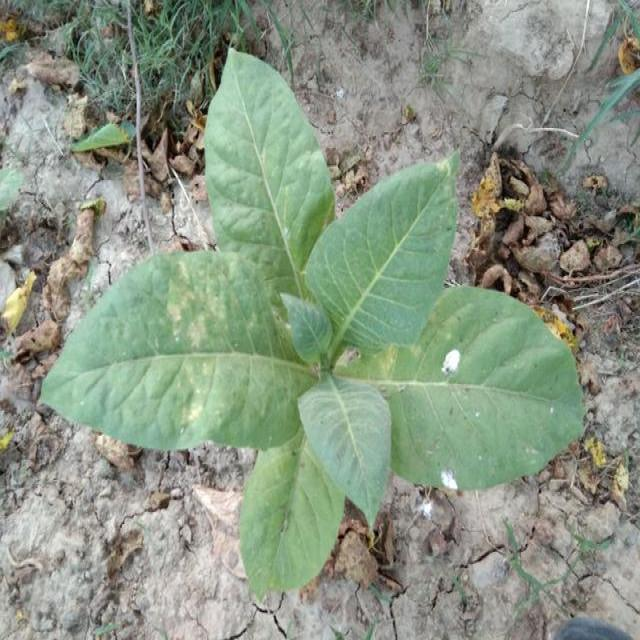crop: (44, 52, 583, 590)
